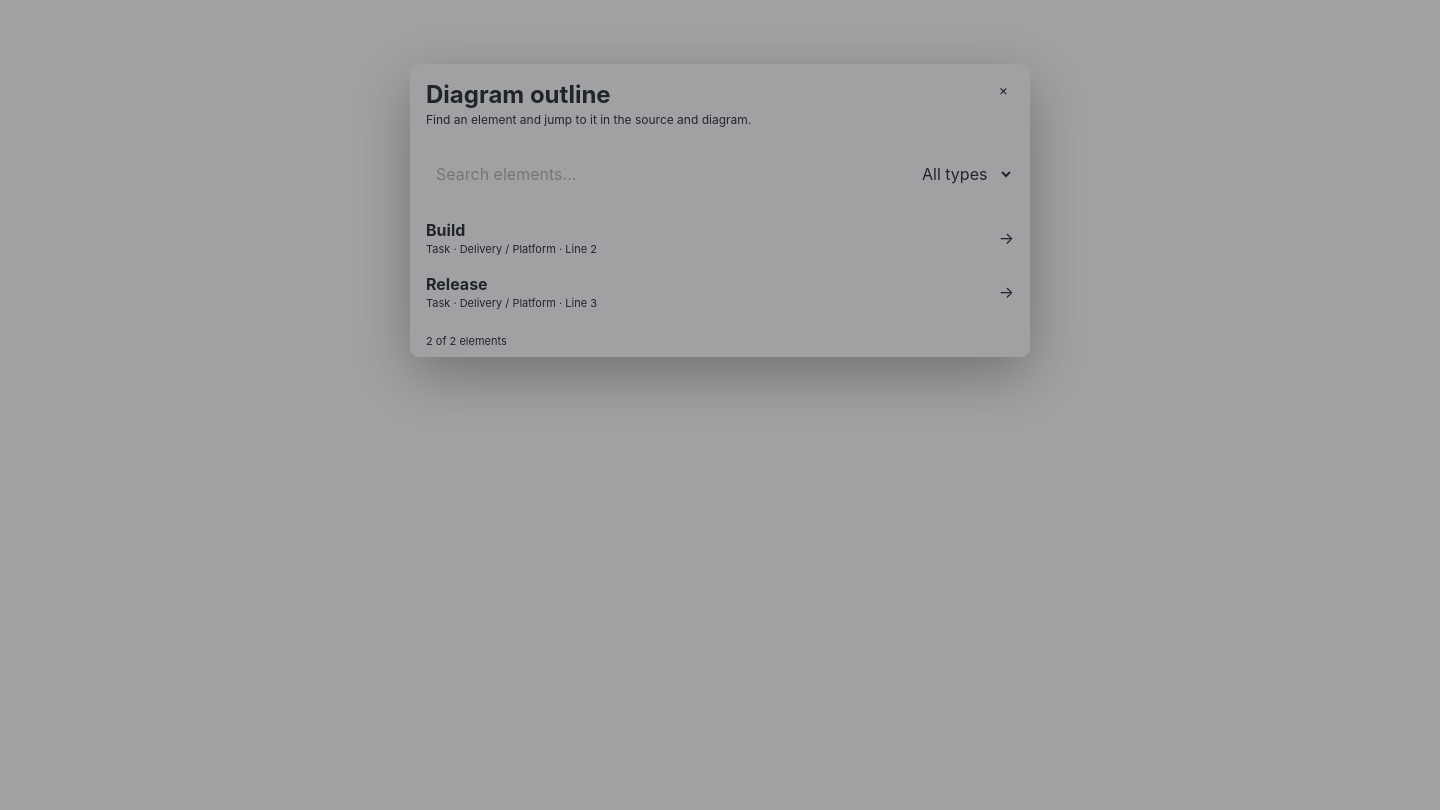
outline context and large result sets › finds descendants by displayed ancestry, clears search and explains filtered empty states
The image size is (1440, 810).
Type "platform release" into the search field named "Search diagram elements" at (663, 174), box [426,155,900,193]
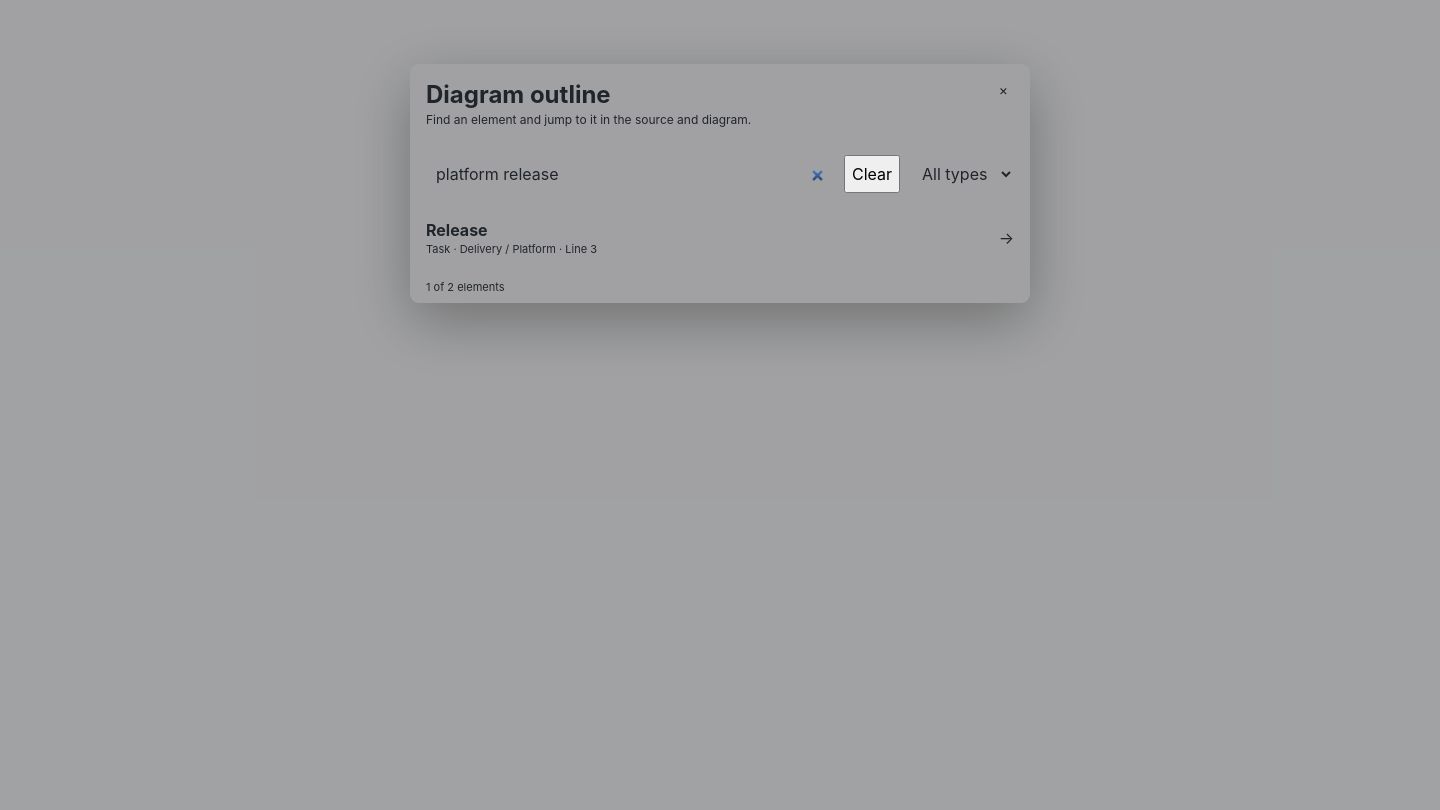
Expected: the number of list items is 1, [416,211,1024,265]
Click the button with aria-label "Clear outline search" at (872, 174), box [844,155,900,193]
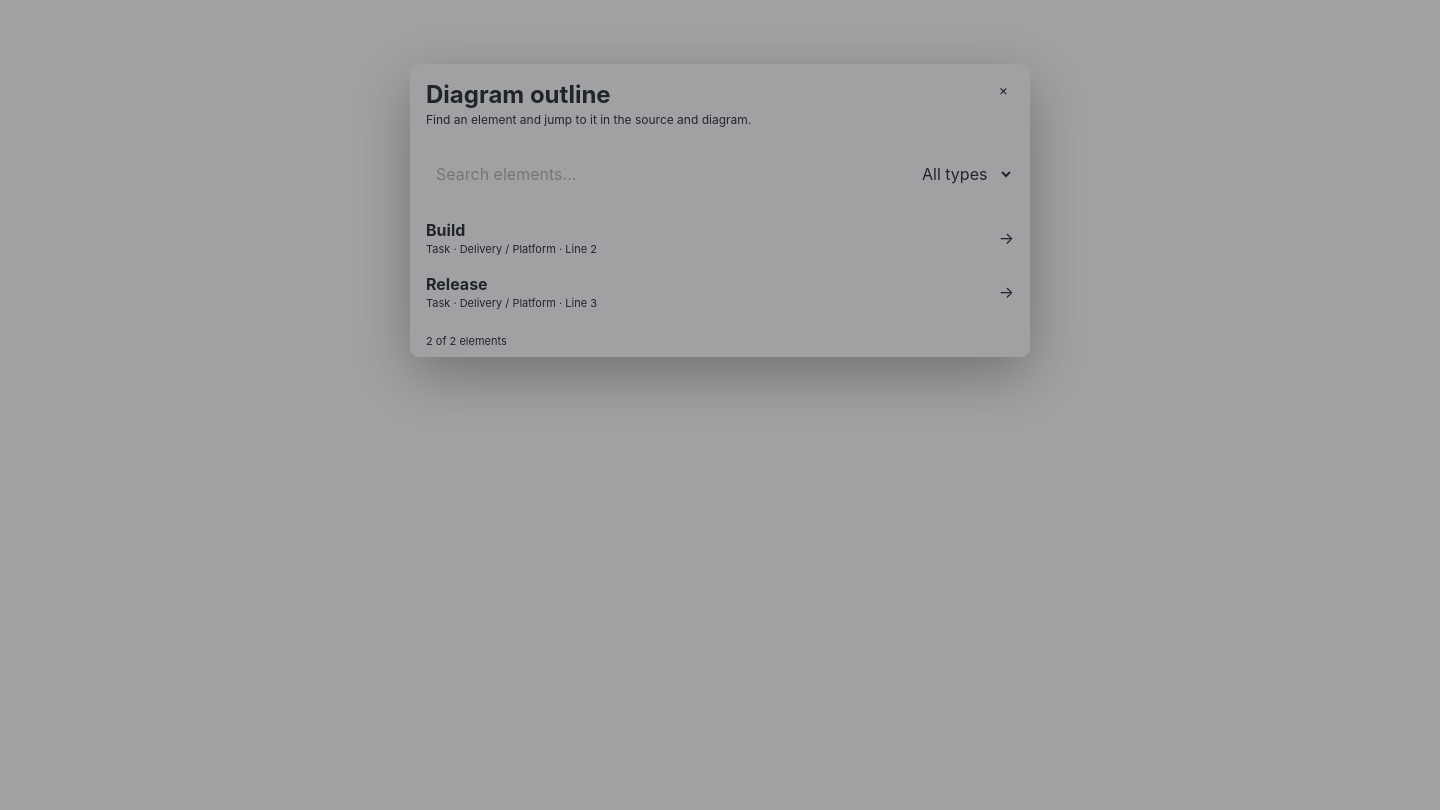
Expected: the number of list items is 2, [416,211,1024,265]; [416,265,1024,319]
Type "missing" into the search field named "Search diagram elements" at (663, 174), box [426,155,900,193]
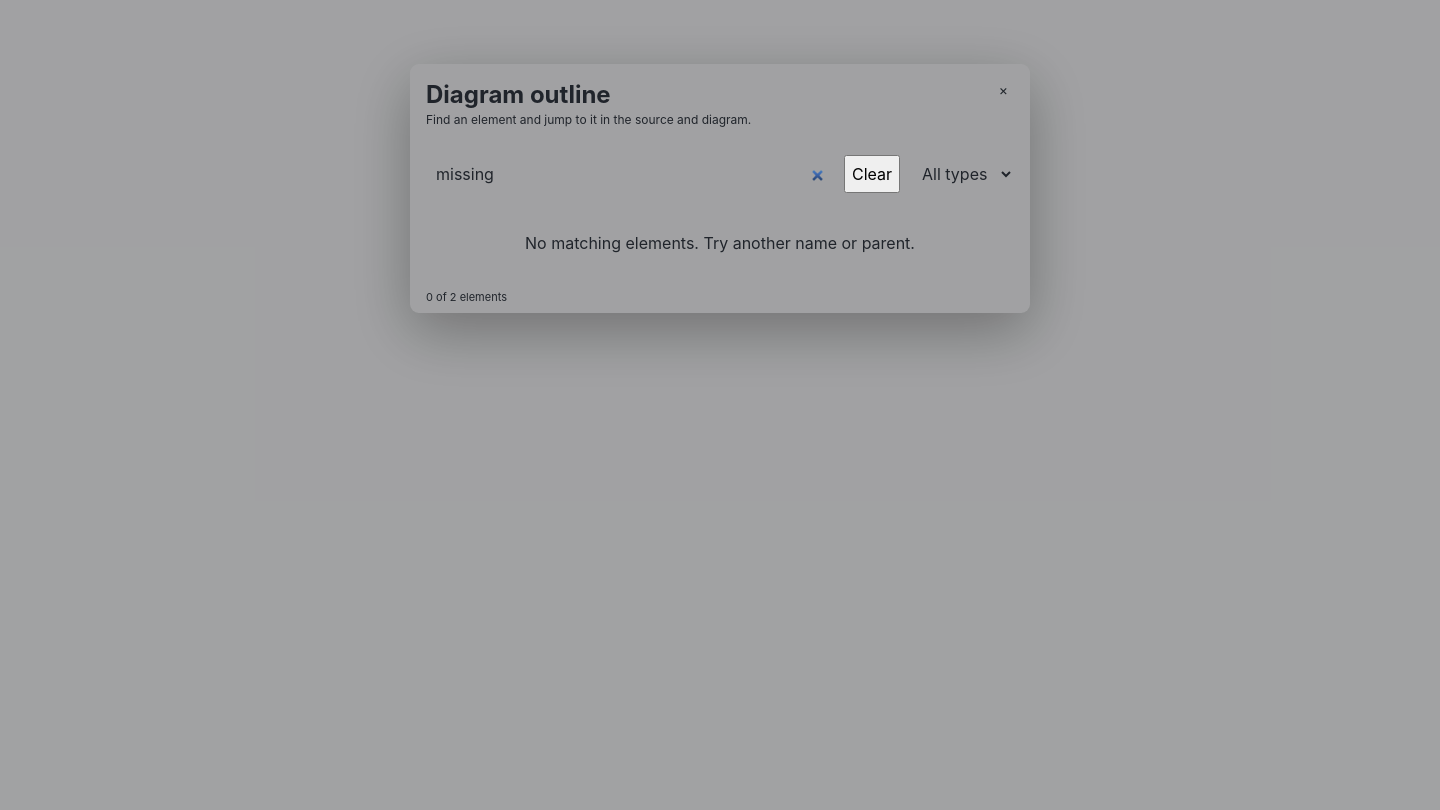
Select "Task" in the dropdown named "Filter diagram element type" at (961, 174), box [908,155,1014,193]
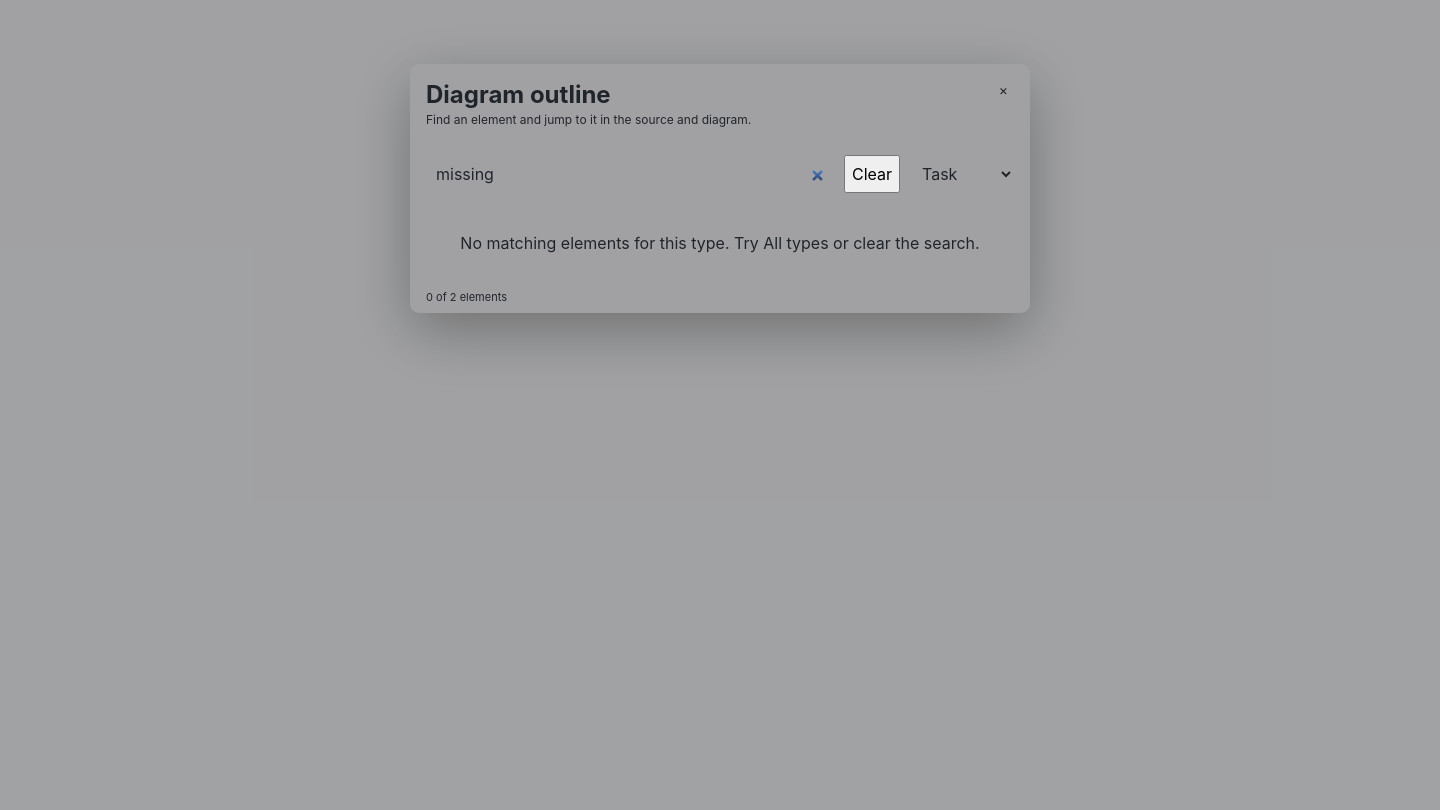
Expected: the text "Try All types" is shown, [460,233,980,253]
